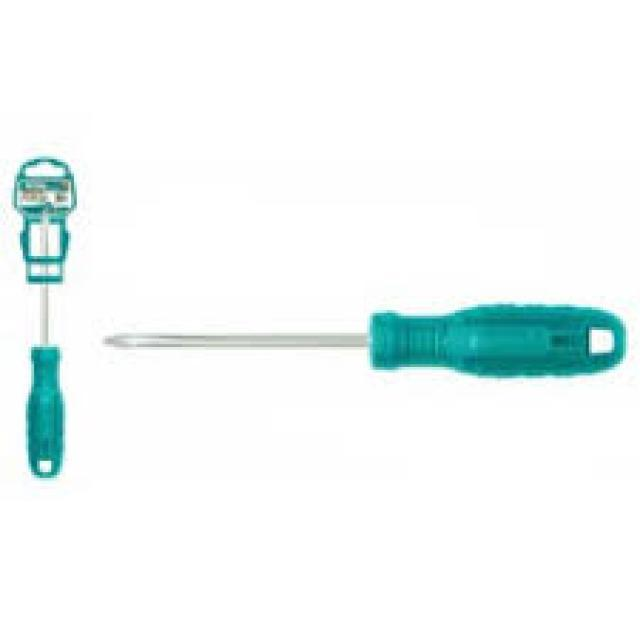screwdriver: (100, 300, 624, 386), (18, 201, 67, 482)
